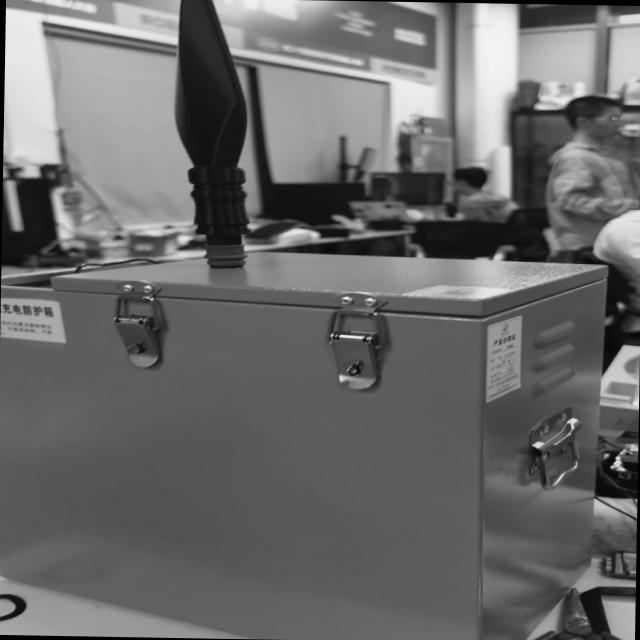base: (202, 242, 248, 270)
